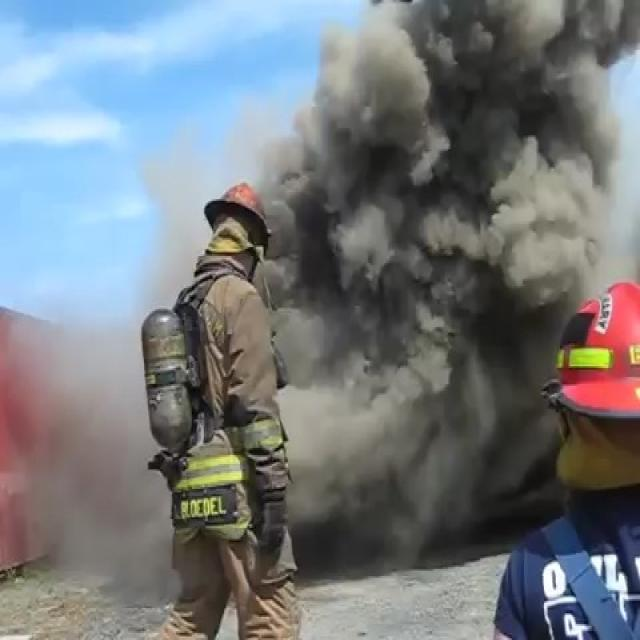Smoke: (311, 0, 553, 476)
